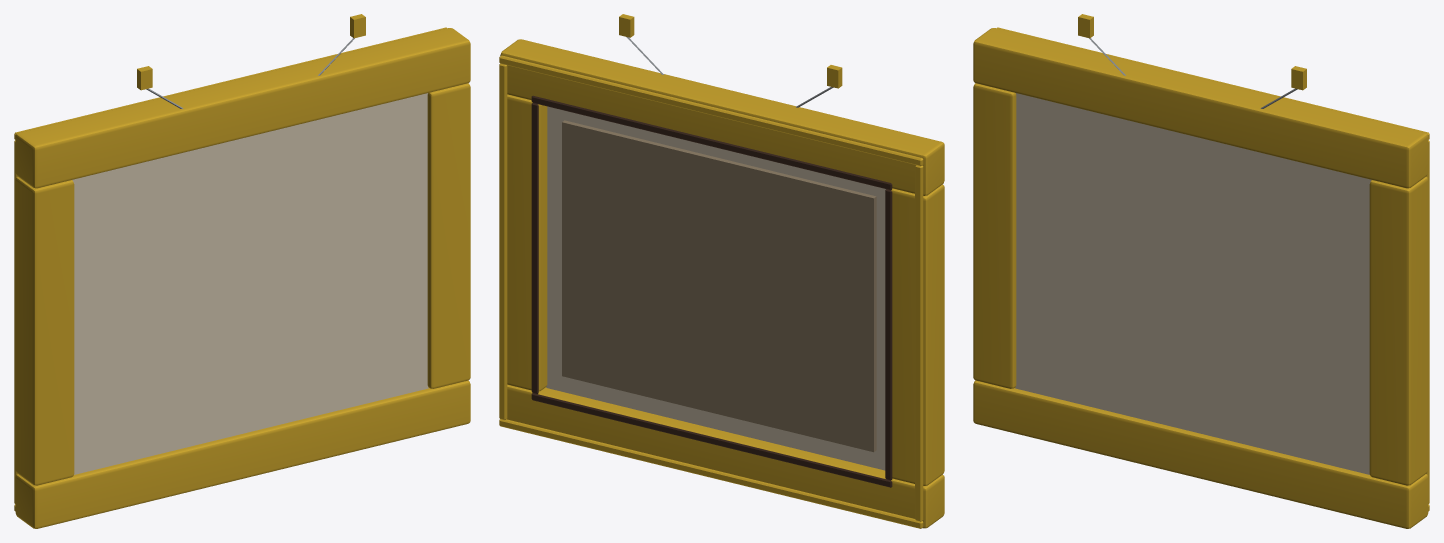
The model's file is prop_canvas_study1.glb.
The picture shows the model from 3 angles, left to right: view 1: azimuth 30°, elevation 25°; view 2: azimuth 150°, elevation 25°; view 3: azimuth 330°, elevation 25°; orthographic projection. The views are drawn at different scales.
Visible parts, largest first — view 1: Canvas, Hooks; view 2: Canvas, Paint, Hooks; view 3: Canvas, Hooks.
Boxes of the visible parts, bbox=[...] form: Canvas: bbox=[14, 27, 470, 528]; Hooks: bbox=[137, 14, 365, 108]; Canvas: bbox=[499, 39, 944, 528]; Paint: bbox=[562, 120, 876, 452]; Hooks: bbox=[619, 14, 842, 107]; Canvas: bbox=[973, 27, 1429, 528]; Hooks: bbox=[1078, 14, 1306, 108].
Bounding box in the file's own units: 0.74 × 0.7 × 0.068.
